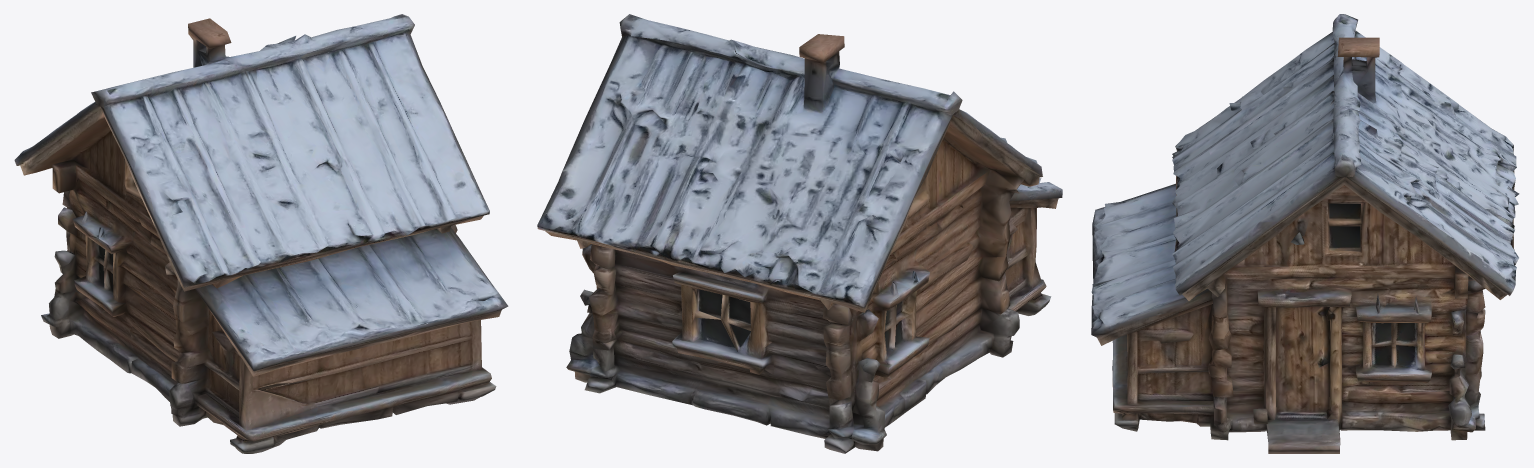
Rendered from cabin.glb.
3 views of the same model, side by side, from view 1: azimuth 30°, elevation 25°; view 2: azimuth 150°, elevation 25°; view 3: azimuth 270°, elevation 25° (orthographic). The views are drawn at different scales.
Visible parts, largest first — view 1: tripo_node_1b04907a-ca0b-4ee1-add0-f2c3c559437f; view 2: tripo_node_1b04907a-ca0b-4ee1-add0-f2c3c559437f; view 3: tripo_node_1b04907a-ca0b-4ee1-add0-f2c3c559437f.
Part boxes in pixels (x1=…): tripo_node_1b04907a-ca0b-4ee1-add0-f2c3c559437f: x1=14, y1=14, x2=508, y2=453; tripo_node_1b04907a-ca0b-4ee1-add0-f2c3c559437f: x1=537, y1=14, x2=1062, y2=453; tripo_node_1b04907a-ca0b-4ee1-add0-f2c3c559437f: x1=1091, y1=14, x2=1519, y2=453.
Bounding box in the file's own units: 0.855 × 0.8102 × 1.
1 material, 1 textured.
